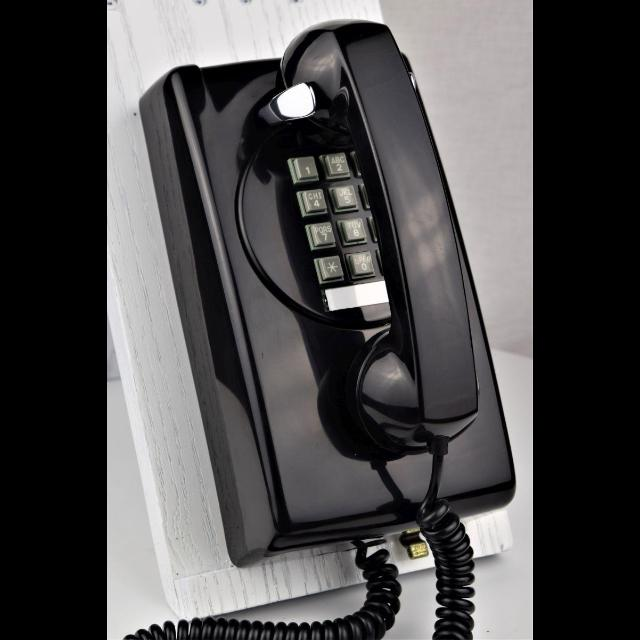Telephone-Set: (130, 18, 534, 640)
